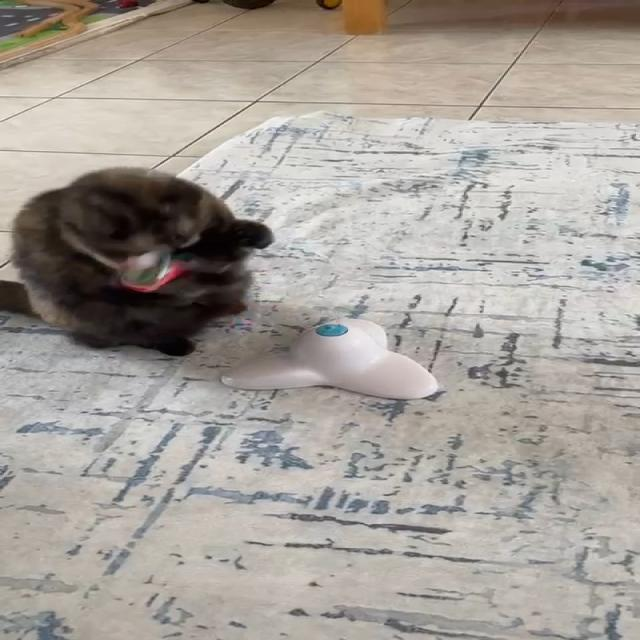authorized: (10, 166, 274, 357)
